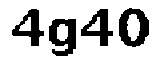0: (116, 7, 153, 48)
4: (7, 5, 46, 50), (78, 6, 117, 49)
g: (46, 15, 79, 58)
